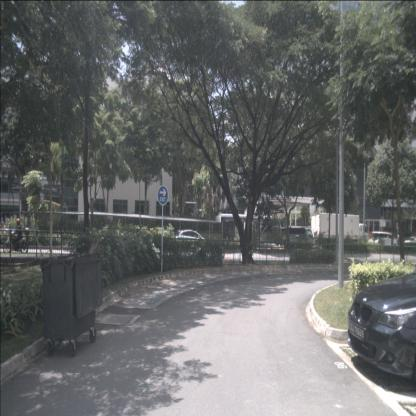vehicle-car: (348, 267, 416, 388), (176, 228, 206, 249), (370, 231, 398, 249), (404, 236, 416, 248)
vehicle-motorcycle: (3, 218, 30, 253)
vehicle-truck: (311, 212, 368, 251), (284, 228, 314, 250)
